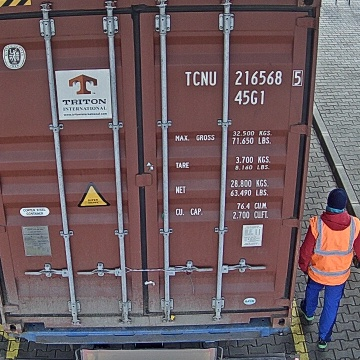serial_id: (185, 70, 301, 86)
